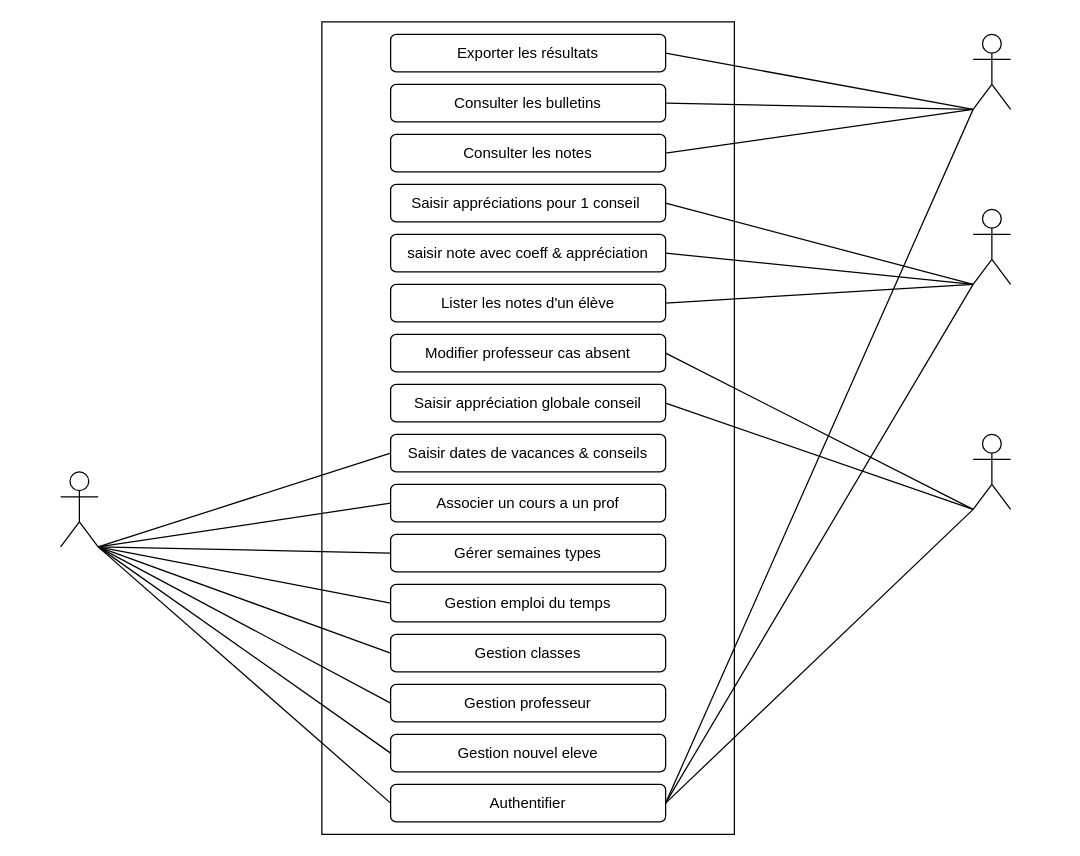
This 1080x856 diagram has some shape labels left out. Each missing label, with the centre of its shape:
"Equipe dirigeante" belongs at (x=78, y=509).
"Parent/Eleves" belongs at (x=991, y=71).
"Professeur principal" belongs at (x=991, y=471).
"Professeurs" belongs at (x=991, y=246).
